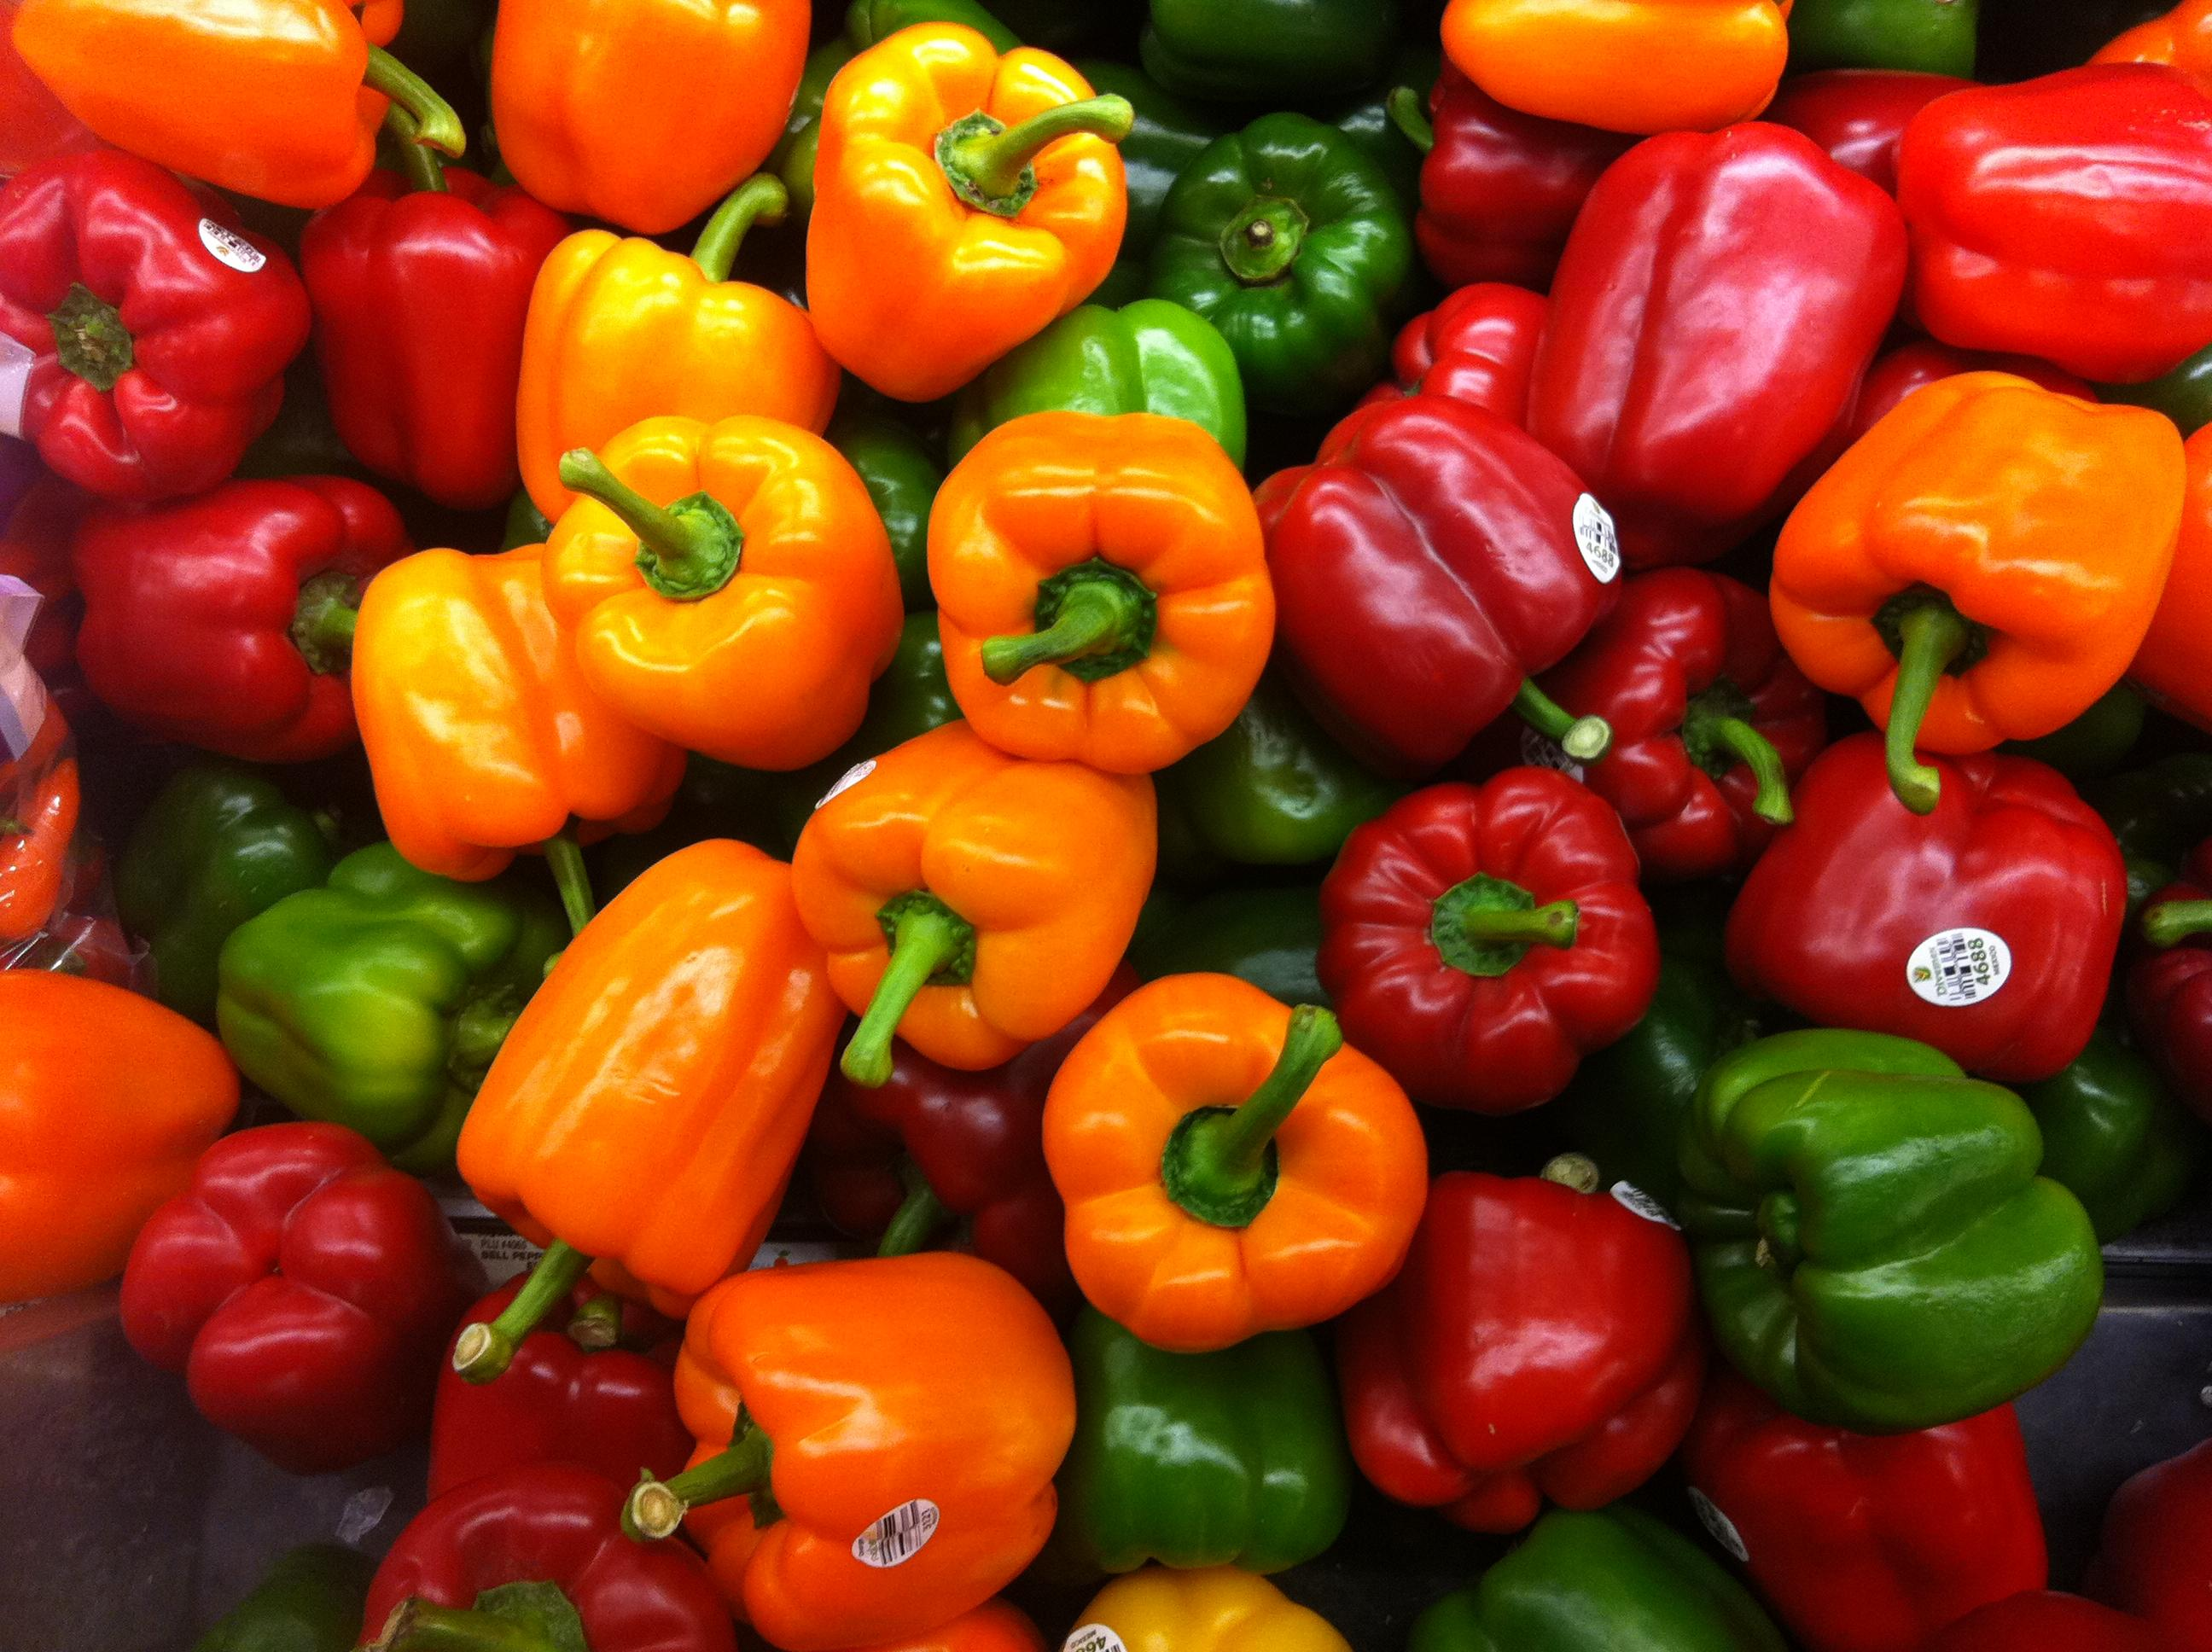bell pepper: (3, 2, 2207, 1647), (349, 410, 904, 878), (1723, 595, 2127, 1081), (453, 835, 843, 1300), (1678, 1026, 2104, 1433), (1525, 118, 1908, 547), (1768, 366, 2188, 757), (670, 1248, 1076, 1647), (1041, 968, 1428, 1350), (789, 720, 1159, 1086), (925, 408, 1277, 772), (802, 17, 1135, 401), (116, 1118, 456, 1472), (1315, 764, 1659, 1112), (512, 172, 838, 524), (0, 146, 312, 501), (1893, 56, 2210, 382), (7, 0, 460, 208), (486, 0, 812, 236)
